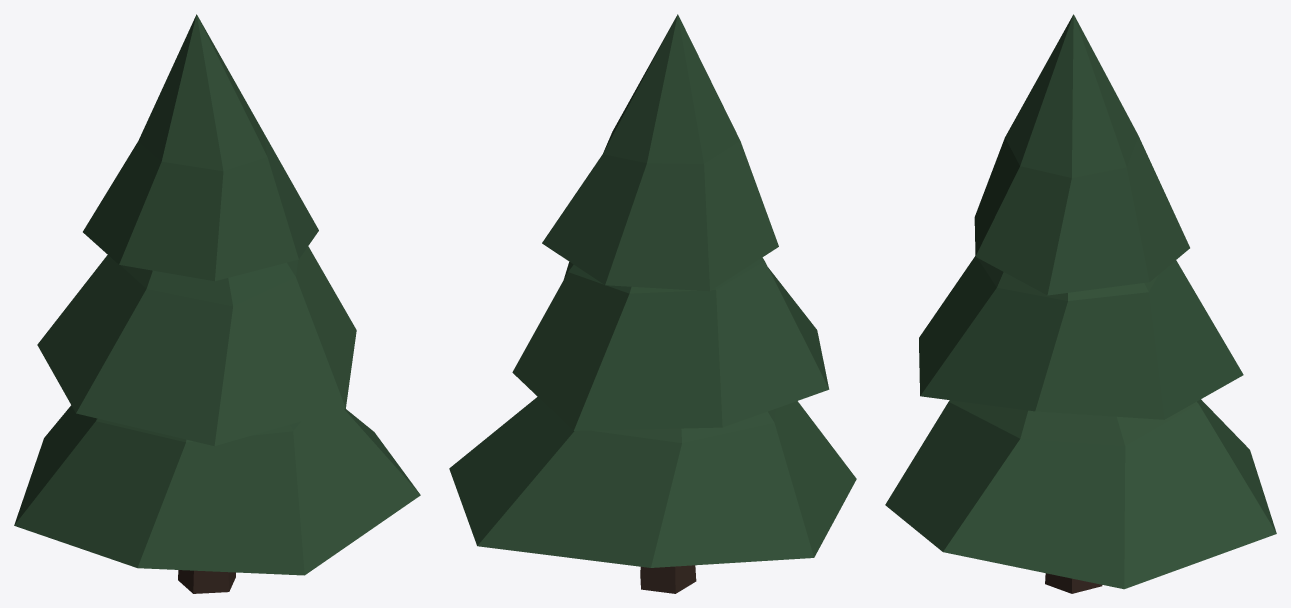
File: deco_pine_l.glb
The picture shows the model from 3 angles, left to right: view 1: azimuth 30°, elevation 25°; view 2: azimuth 150°, elevation 25°; view 3: azimuth 270°, elevation 25°; orthographic projection.
Visible parts, largest first — view 1: deco_pine_l_mesh; view 2: deco_pine_l_mesh; view 3: deco_pine_l_mesh.
Boxes of the visible parts, left/top/right/bottom form: deco_pine_l_mesh: left=14, top=14, right=420, bottom=593; deco_pine_l_mesh: left=449, top=14, right=856, bottom=593; deco_pine_l_mesh: left=885, top=14, right=1276, bottom=593.
Size of the model in its own units: 0.3058 by 0.46 by 0.2909.
